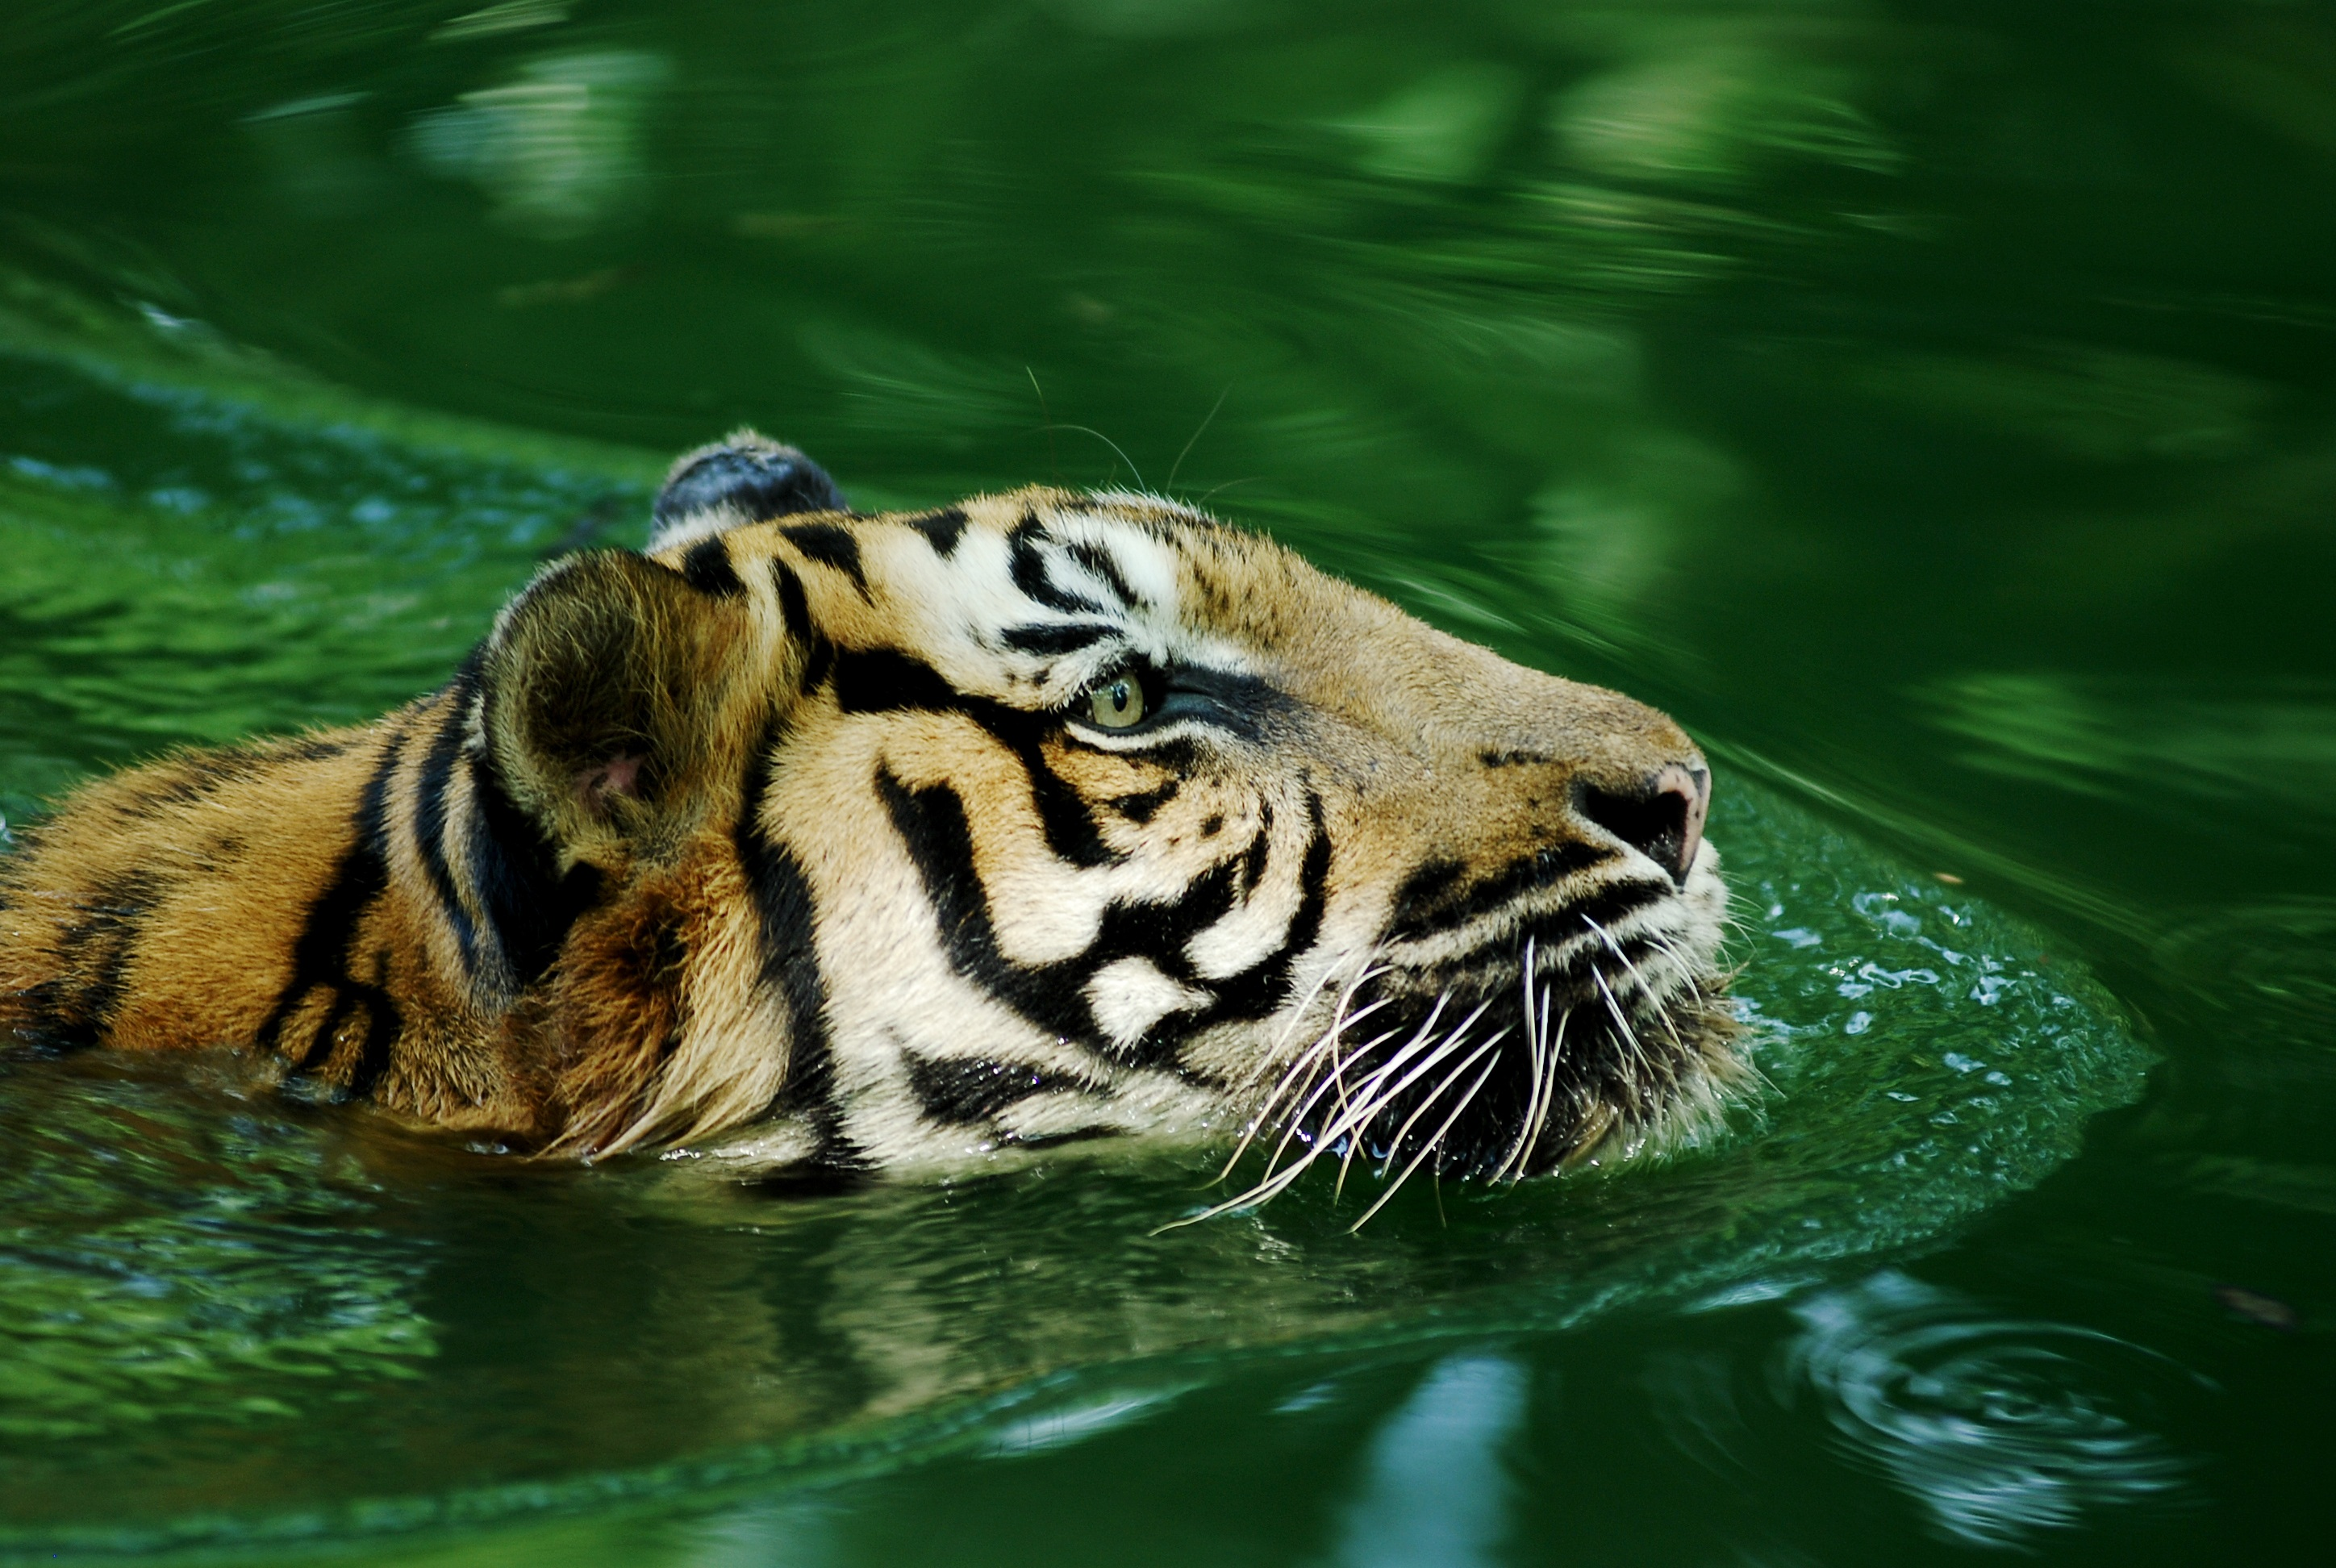tiger: (178, 397, 1815, 1248)
